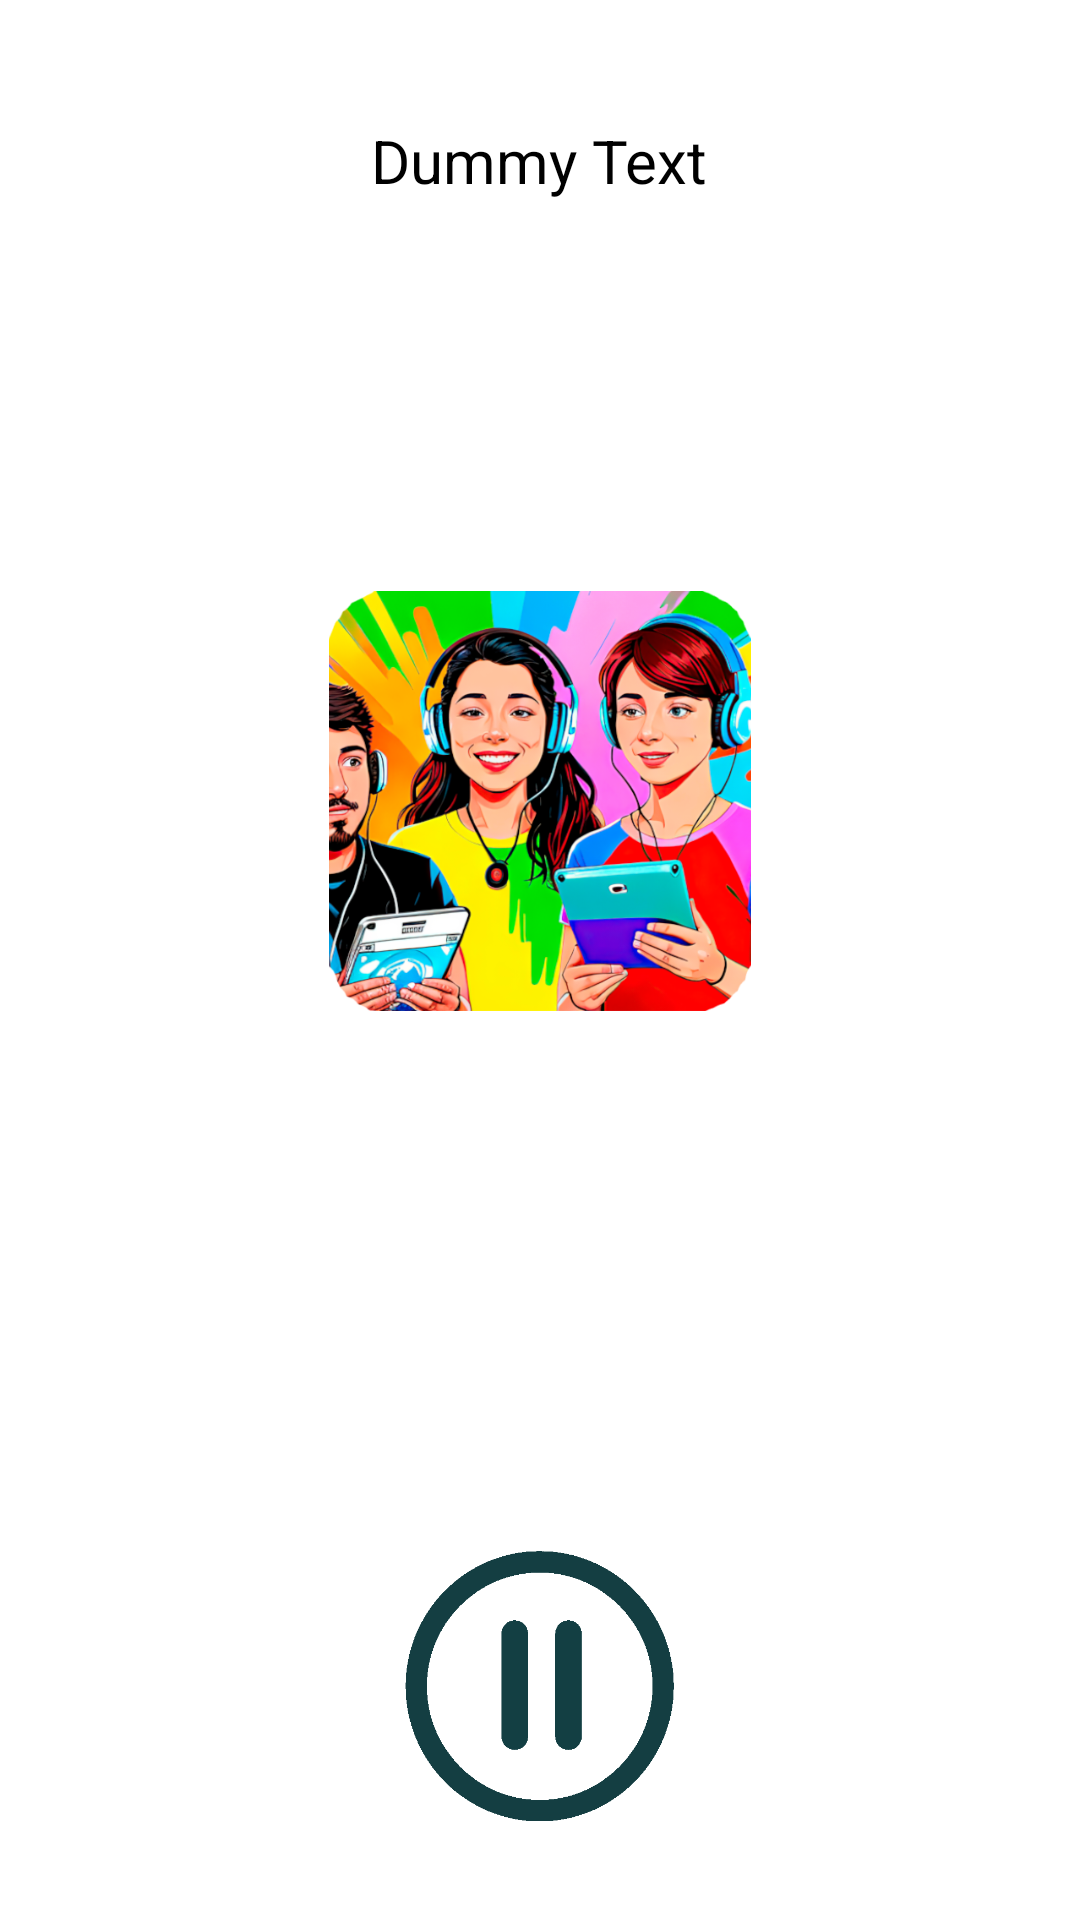

Icons on this 1080 × 1920 Android screen, each with its box as (x1, y1, x2, y2):
player pause: (405, 1551, 674, 1821)
